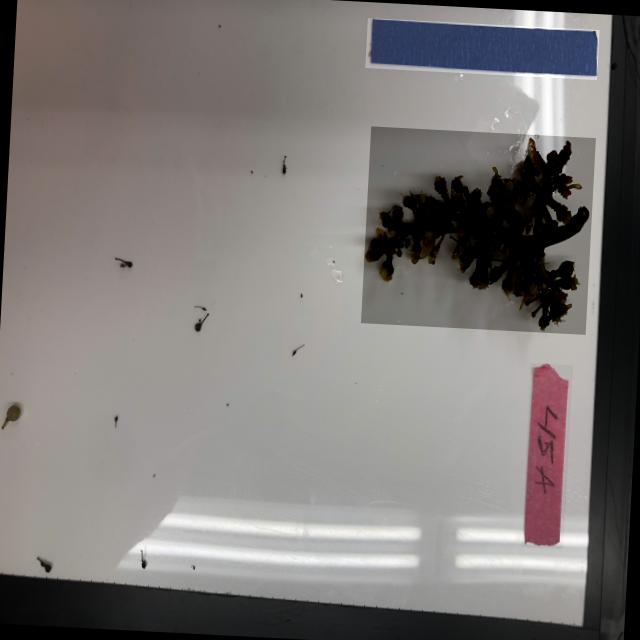index: (520, 363, 572, 549)
measure_label: (364, 18, 598, 80)
rachis_cluster: (360, 126, 595, 335)
